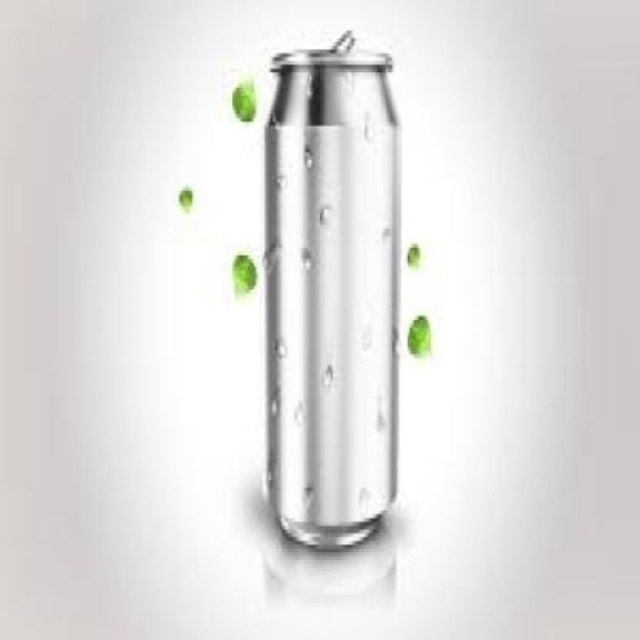trash: (265, 31, 398, 548)
